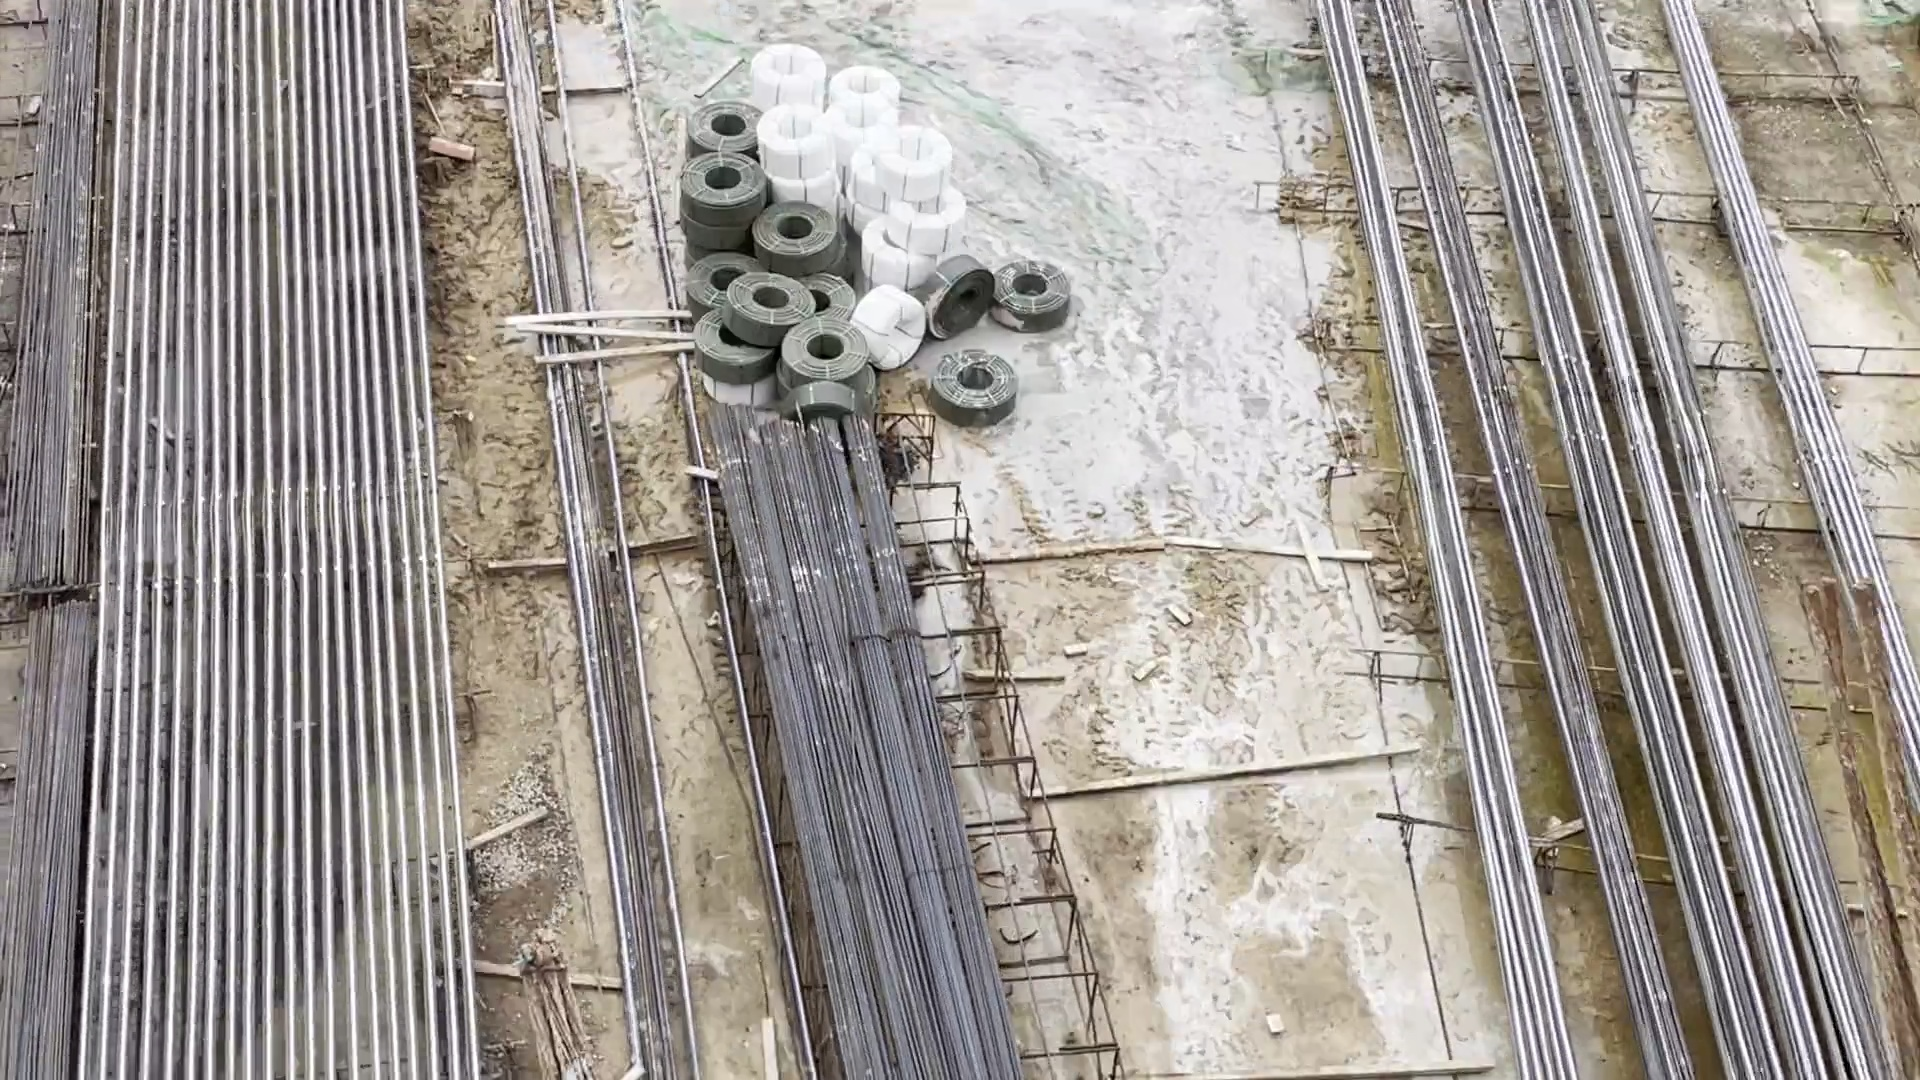rebar: (1335, 5, 1822, 1059), (694, 371, 1036, 1080), (3, 1, 133, 1040)
